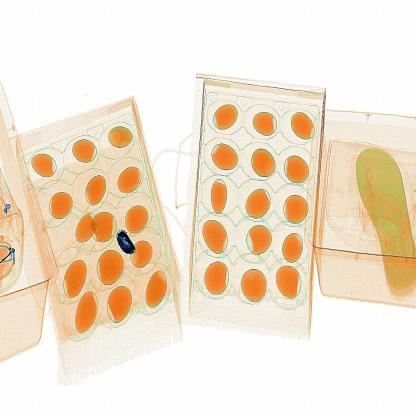scissors: (105, 221, 151, 272)
